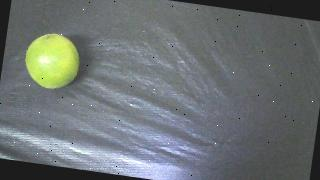LOCAL: (21, 30, 82, 92)
